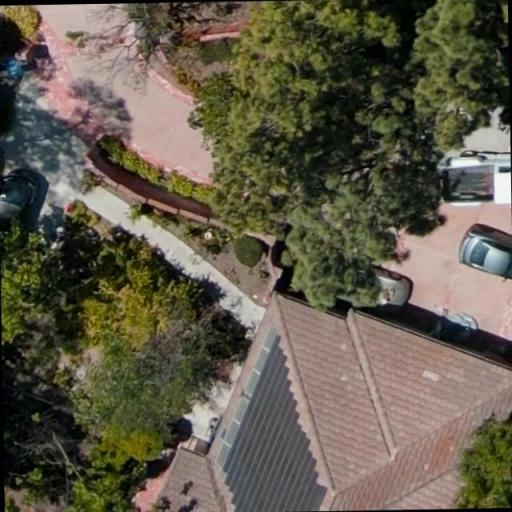solar-panel: (222, 331, 328, 512)
